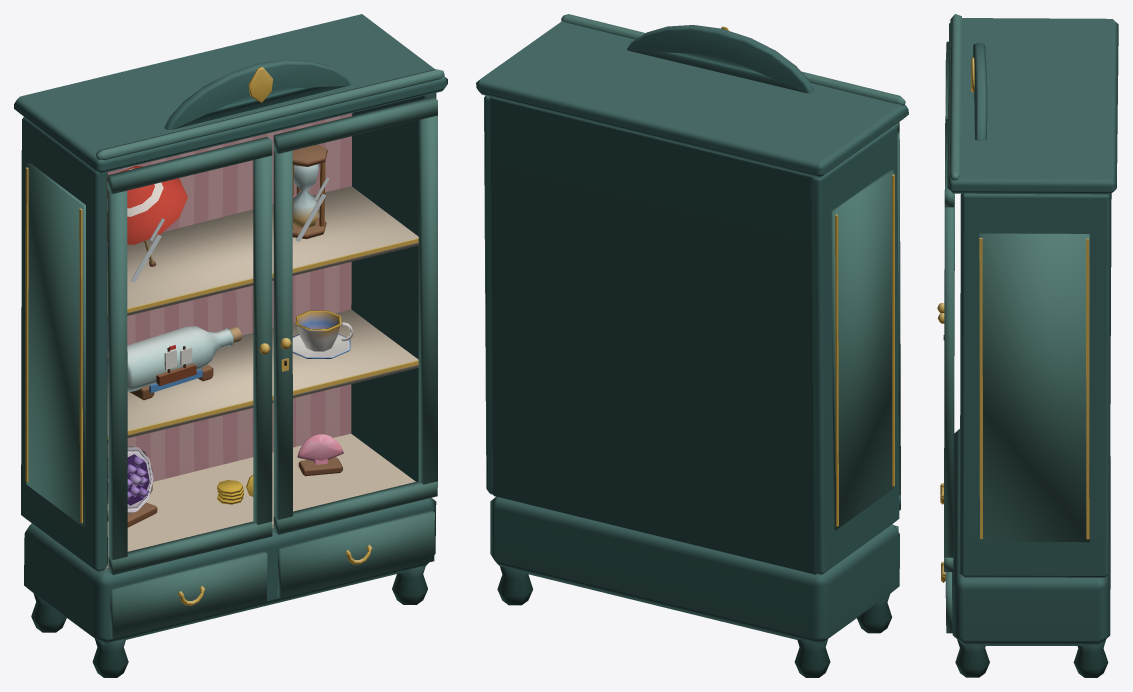
Rendered from furn-curioCabinet.glb.
3 renders of one model, left to right at view 1: azimuth 30°, elevation 25°; view 2: azimuth 150°, elevation 25°; view 3: azimuth 270°, elevation 25°, orthographic. The views are drawn at different scales.
Visible parts, largest first — view 1: body; view 2: body; view 3: body.
Part boxes in pixels (x1=…): body: x1=14, y1=14, x2=447, y2=677; body: x1=476, y1=14, x2=908, y2=677; body: x1=937, y1=14, x2=1118, y2=677.
Size of the model in its own units: 0.9955 by 1.52 by 0.4601.
